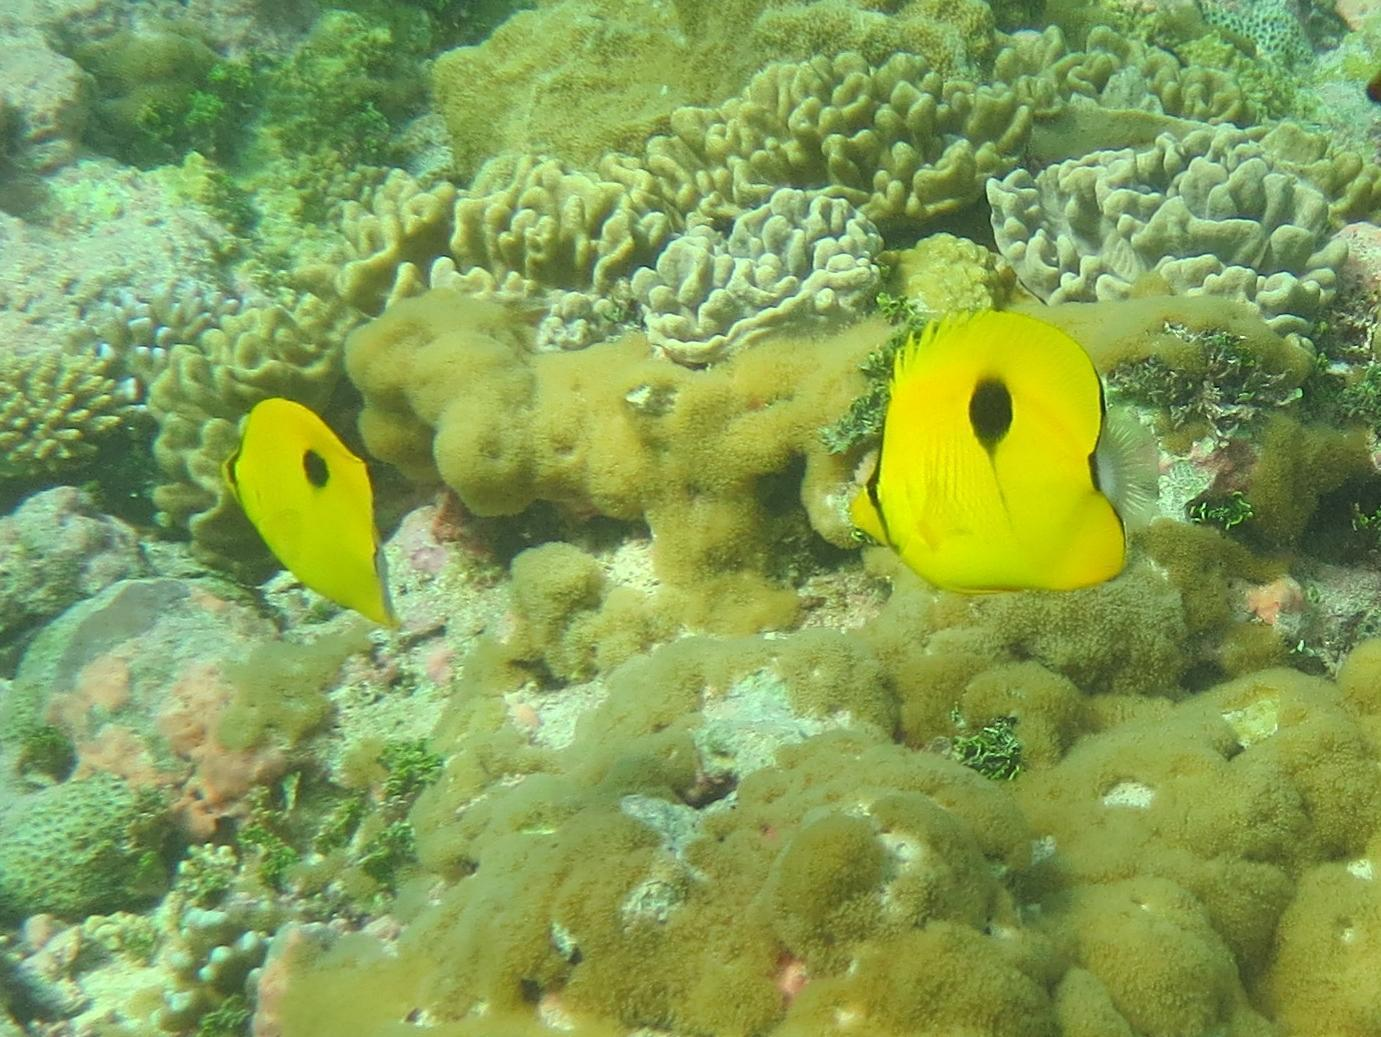Fish: (810, 286, 1186, 650), (155, 373, 488, 661)
